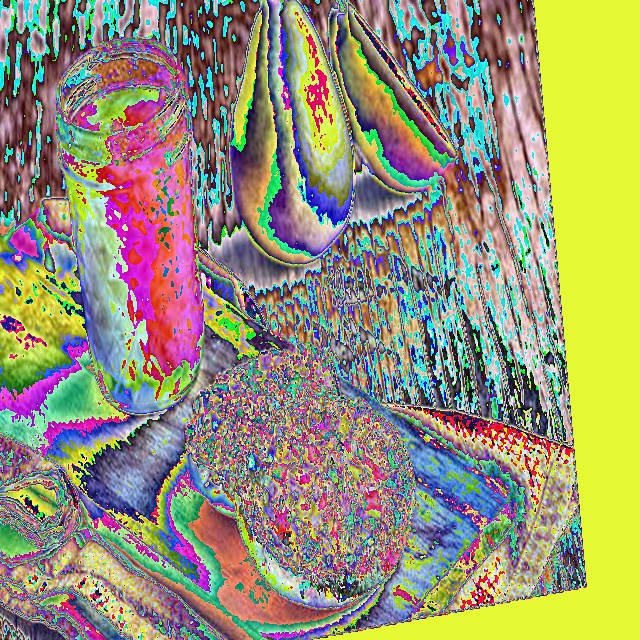background: (186, 270, 415, 610), (229, 0, 460, 268), (59, 85, 204, 415)
